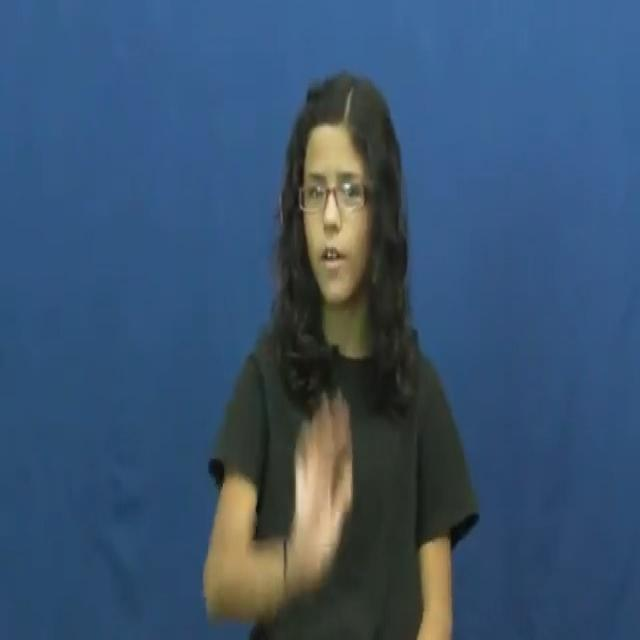your: (286, 386, 360, 560)
